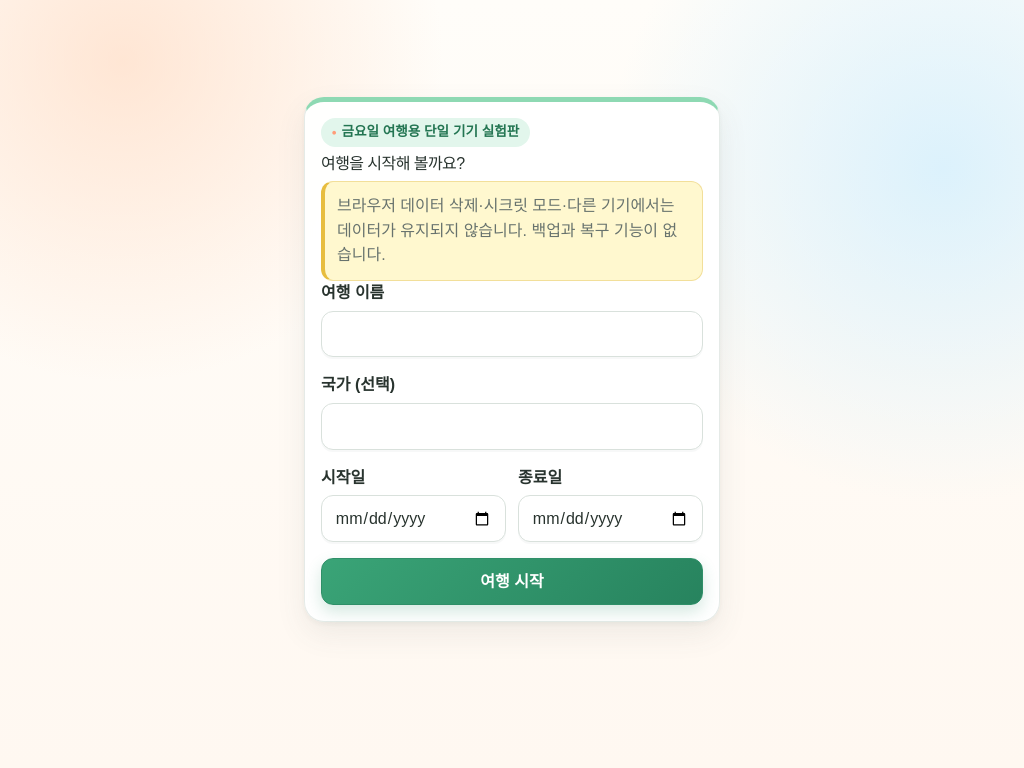
Test case: AppShell › 저장 실패 시 초기 설정 입력값과 오류를 유지한다
The image size is (1024, 768).
Type "도쿄 여행" into the field labelled "여행 이름". click: point(512, 334)
box: [321,311,703,358]
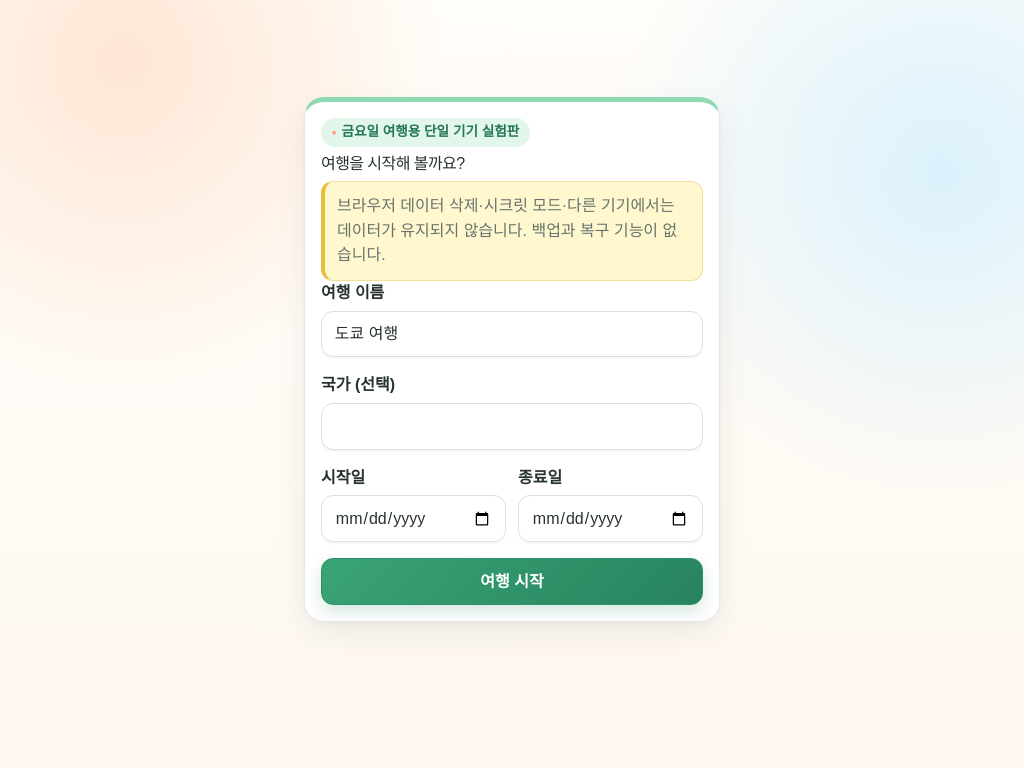
Type "2026-08-28" into the date field labelled "시작일". click: point(414, 519)
box: [321,496,506,542]
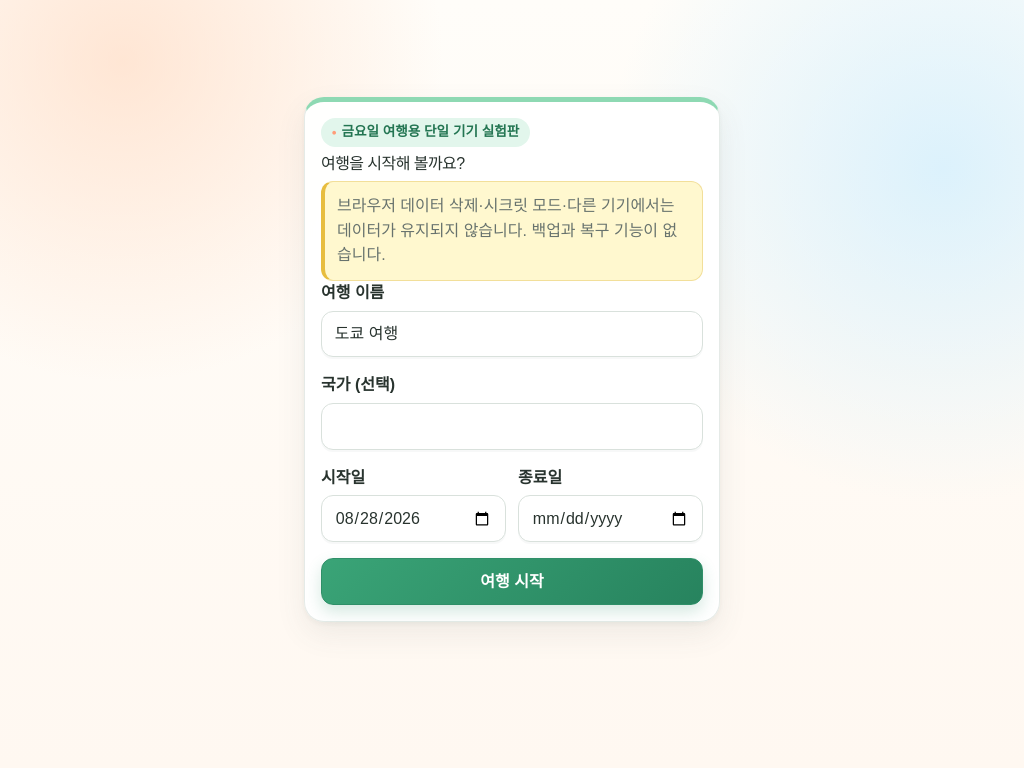
Type "2026-08-30" into the date field labelled "종료일". click: point(610, 519)
box: [518,496,703,542]
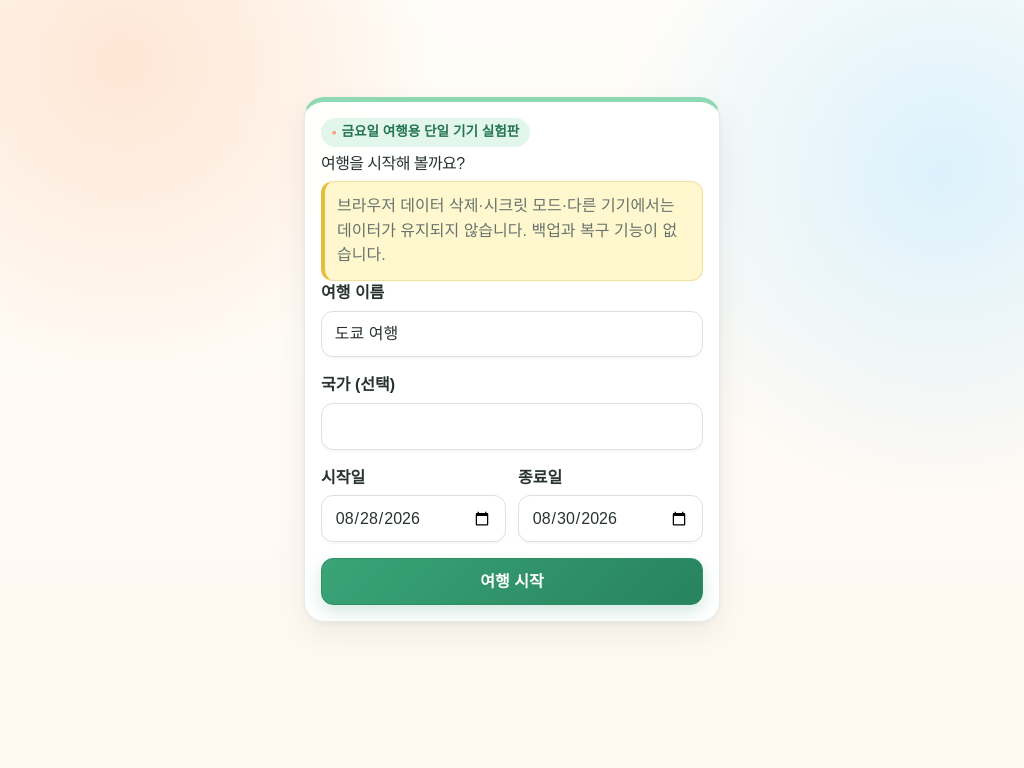
Click the button "여행 시작". click: point(512, 582)
box: [321,558,703,605]
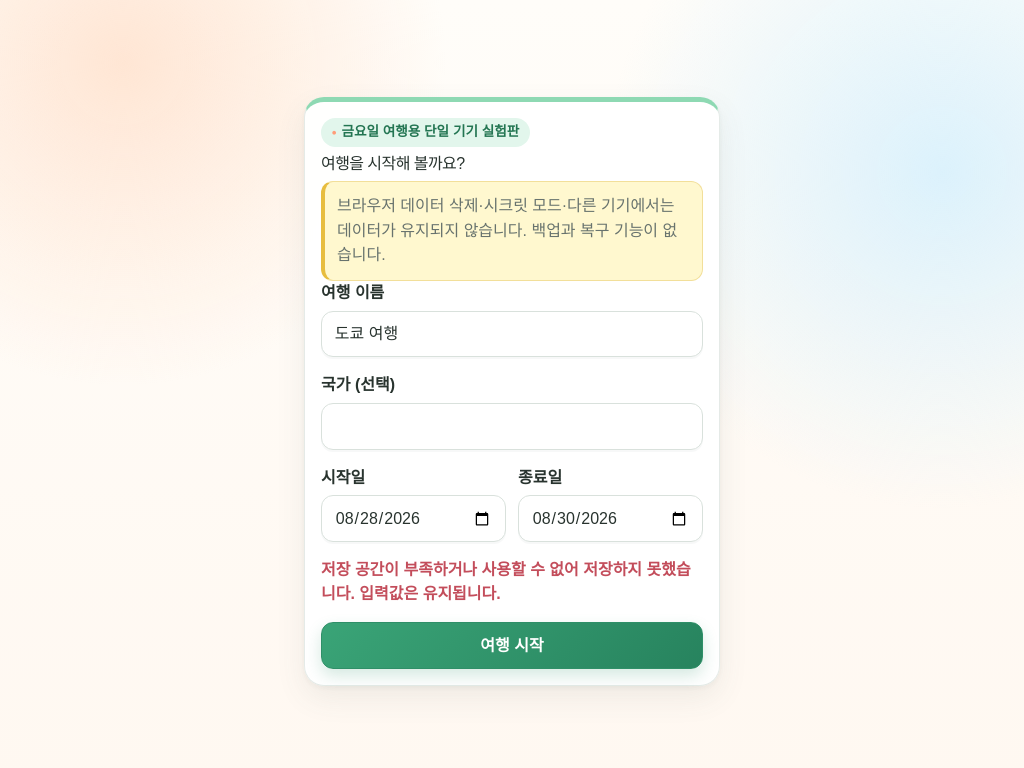
Result: the message shows "저장하지 못했습니다" at [321,561,691,602]
